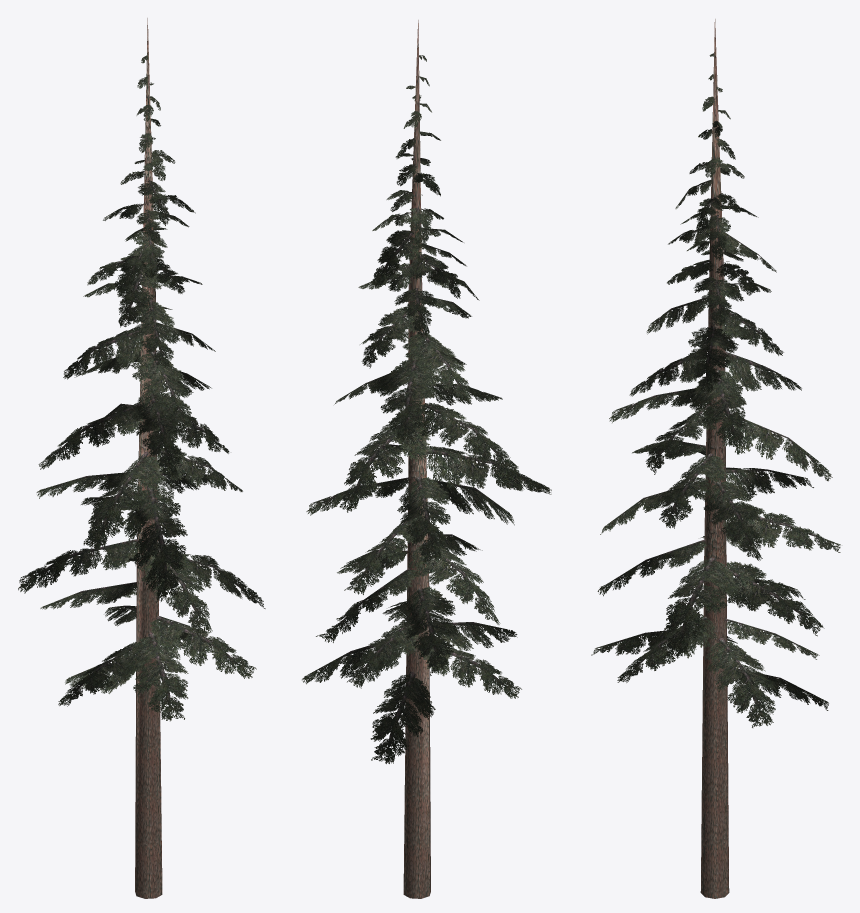
File: conf_mtns_sparse_l0.fbx
3 views of the same model, side by side, from view 1: azimuth 30°, elevation 25°; view 2: azimuth 150°, elevation 25°; view 3: azimuth 270°, elevation 25° (orthographic).
Visible parts, largest first — view 1: mesh_node; view 2: mesh_node; view 3: mesh_node.
Boxes of the visible parts, x1,y1,x2,y2 form: mesh_node: [18, 18, 265, 898]; mesh_node: [302, 20, 551, 898]; mesh_node: [591, 19, 840, 898].
Size of the model in its own units: 5.41 by 21.34 by 5.73.
Materials: 2 (2 with a texture image).
